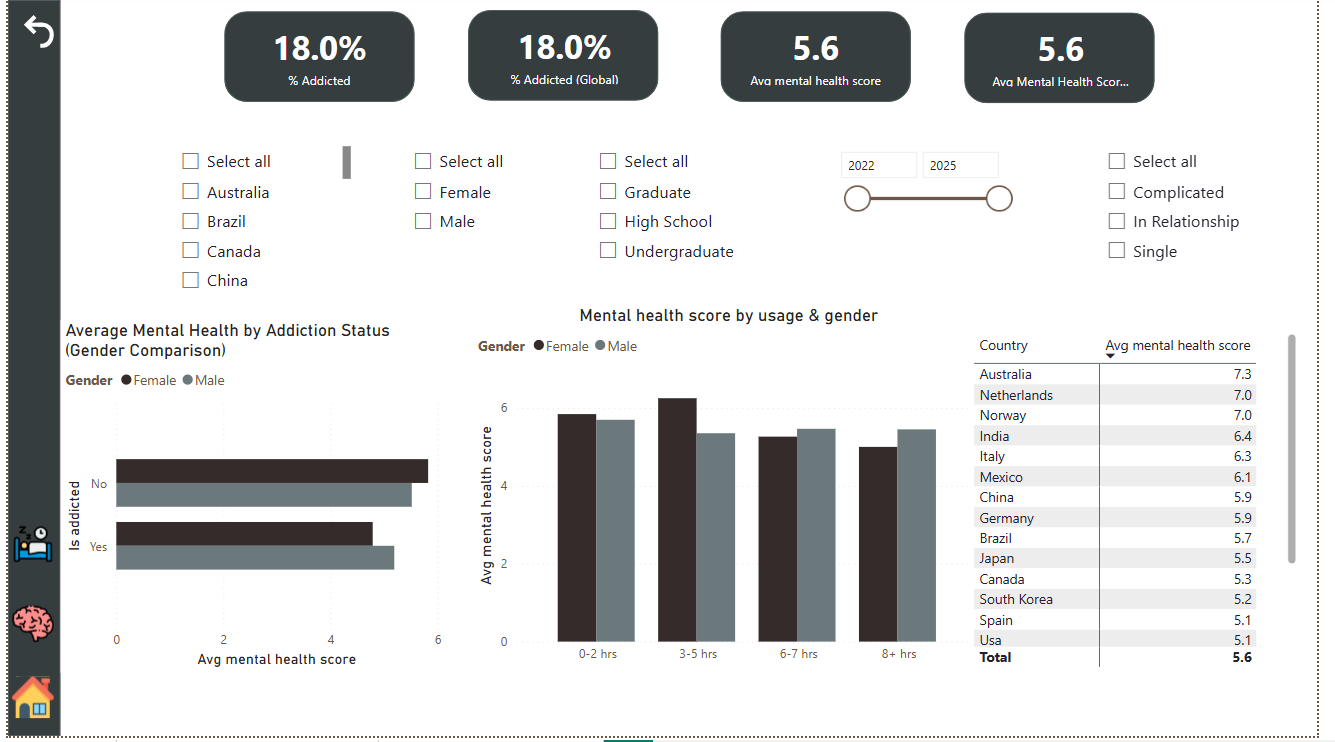

Layout of this report page (visuals, bound fields, positions):
{"tool":"powerbi","page":{"name":"Mental health & usage insights","canvas":[1280,720],"ordinal":1},"visuals":[{"type":"group","id":"g1","title":"Navigation","box":[0,0,51.4,720.2],"z":0},{"type":"shape","box":[0,0,51.4,720.2],"z":0,"group":"g1"},{"type":"shape","box":[211.6,10.5,186.2,88.8],"z":1000},{"type":"actionButton","box":[0,657.9,51.4,48.9],"z":1000,"group":"g1"},{"type":"card","fields":{"Values":["Measure table.% Addicted"]},"box":[231.6,21.8,147.5,66.2],"z":2000},{"type":"actionButton","box":[0,585.7,51.4,48.9],"z":2000,"group":"g1"},{"type":"shape","box":[450.5,9.8,186.2,88.8],"z":3000},{"type":"card","fields":{"Values":["Measure table.% Addicted (Global)"]},"box":[470.5,21,147.5,66.2],"z":4000},{"type":"shape","box":[697.1,10.8,186.2,88.8],"z":5000},{"type":"card","fields":{"Values":["Measure table.Avg mental health score"]},"box":[717.1,22,147.5,66.2],"z":6000},{"type":"shape","box":[935.8,11.7,186.2,88.8],"z":7000},{"type":"card","fields":{"Values":["Measure table.Avg Mental Health Score (Global)"]},"box":[955.8,23,147.5,66.2],"z":8000},{"type":"slicer","fields":{"Values":["Students.Country"]},"box":[157.7,138.2,182.2,150.4],"z":9000},{"type":"slicer","fields":{"Values":["Students.Gender"]},"box":[385.2,138.2,170,150.4],"z":10000},{"type":"slicer","fields":{"Values":["Students.Academic_Level"]},"box":[566.2,138.2,163.9,150.4],"z":11000},{"type":"slicer","fields":{"Values":["DateTable.Year"]},"box":[802.2,138.2,188.3,150.4],"z":12000},{"type":"slicer","fields":{"Values":["Students.Relationship_Status"]},"box":[1063.9,138.2,173.6,150.4],"z":13000},{"type":"clusteredColumnChart","title":"Mental health score by usage & gender","fields":{"Y":["Measure table.Avg mental health score"],"Series":["Students.Gender"],"Category":["Social media usage.UsageGroup"]},"box":[454.5,298.7,500.6,359.2],"z":14000},{"type":"clusteredBarChart","title":"Average Mental Health by Addiction Status (Gender Comparison)","fields":{"Category":["Health and Performance.Is_addicted"],"Y":["Measure table.Avg mental health score"],"Series":["Students.Gender"]},"box":[51.9,313.1,378,344.8],"z":15000},{"type":"pivotTable","fields":{"Rows":["Students.Country"],"Values":["Measure table.Avg mental health score"]},"box":[940.4,321.6,325.3,336.3],"z":16000},{"type":"actionButton","box":[10,10,51.4,41.6],"z":17000},{"type":"actionButton","box":[0,507.5,51.4,48.9],"z":18000}]}

Visuals, with their boxes on the page's 1280x720 design canvas (x1, y1, x2, y2). These are canvas units, not pixel positions in the 1335x742 screenshot, which may show the page scaled, cropped or inside an application window:
"Navigation" group: detection(0, 0, 51, 720)
shape: detection(0, 0, 51, 720)
shape: detection(212, 10, 398, 99)
actionButton: detection(0, 658, 51, 707)
card - Measure table.% Addicted: detection(232, 22, 379, 88)
actionButton: detection(0, 586, 51, 635)
shape: detection(450, 10, 637, 99)
card - Measure table.% Addicted (Global): detection(470, 21, 618, 87)
shape: detection(697, 11, 883, 100)
card - Measure table.Avg mental health score: detection(717, 22, 865, 88)
shape: detection(936, 12, 1122, 100)
card - Measure table.Avg Mental Health Score (Global): detection(956, 23, 1103, 89)
slicer - Students.Country: detection(158, 138, 340, 289)
slicer - Students.Gender: detection(385, 138, 555, 289)
slicer - Students.Academic_Level: detection(566, 138, 730, 289)
slicer - DateTable.Year: detection(802, 138, 990, 289)
slicer - Students.Relationship_Status: detection(1064, 138, 1238, 289)
"Mental health score by usage & gender" clusteredColumnChart: detection(454, 299, 955, 658)
"Average Mental Health by Addiction Status (Gender Comparison)" clusteredBarChart: detection(52, 313, 430, 658)
pivotTable - Students.Country x Measure table.Avg mental health score: detection(940, 322, 1266, 658)
actionButton: detection(10, 10, 61, 52)
actionButton: detection(0, 508, 51, 556)
